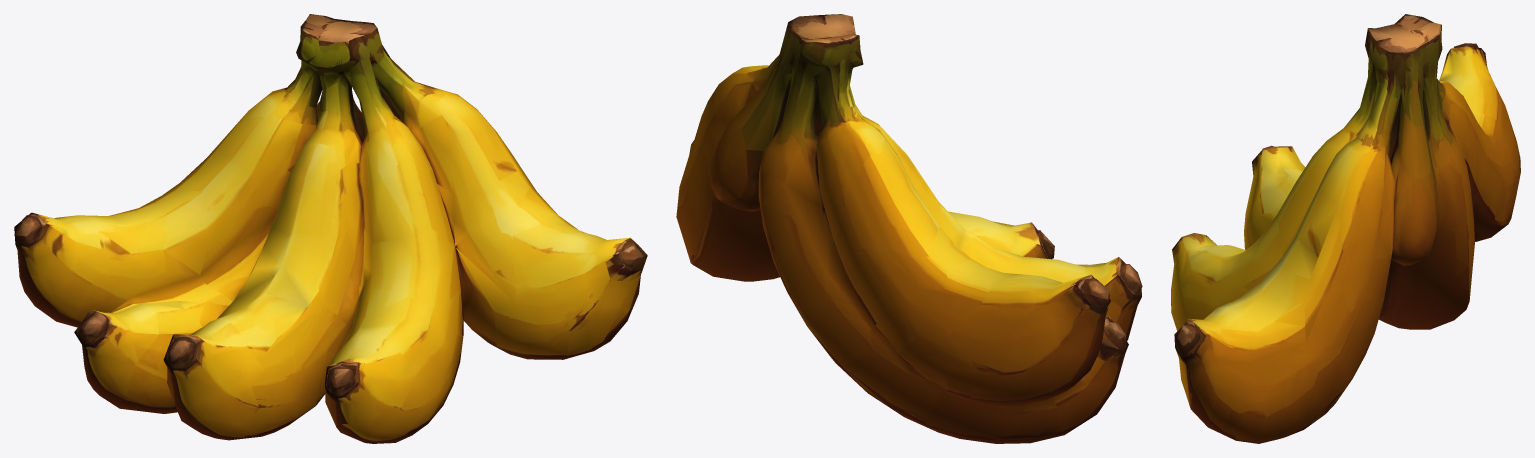
File: banana-bunch.glb
3 views of the same model, side by side, from view 1: azimuth 30°, elevation 25°; view 2: azimuth 150°, elevation 25°; view 3: azimuth 270°, elevation 25° (orthographic). The views are drawn at different scales.
Parts seen in each view (by area): view 1: TripoBananaBunch_Mesh; view 2: TripoBananaBunch_Mesh; view 3: TripoBananaBunch_Mesh.
Boxes of the visible parts, x1,y1,x2,y2 form: TripoBananaBunch_Mesh: (14,14,647,443); TripoBananaBunch_Mesh: (676,14,1142,443); TripoBananaBunch_Mesh: (1171,14,1520,443).
Bounding box in the file's own units: 0.54 × 0.35 × 0.31.
Materials: 1 (1 with a texture image).
